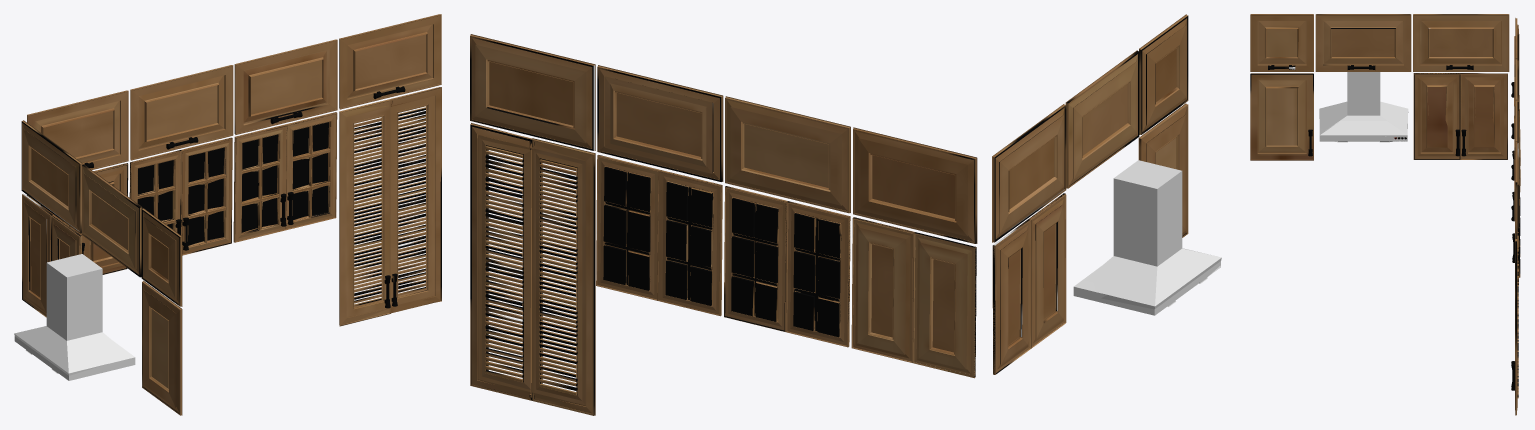
File: cabinfront.gltf
3 renders of one model, left to right at view 1: azimuth 30°, elevation 25°; view 2: azimuth 150°, elevation 25°; view 3: azimuth 270°, elevation 25°, orthographic. The views are drawn at different scales.
Visible parts, largest first — view 1: 18; view 2: 18; view 3: 18.
Part boxes in pixels (x1=…): 18: x1=14, y1=14, x2=441, y2=415; 18: x1=470, y1=14, x2=1221, y2=415; 18: x1=1250, y1=14, x2=1520, y2=415.
Bounding box in the file's own units: 14.21 × 7.91 × 8.28.
1 material, 1 textured.
